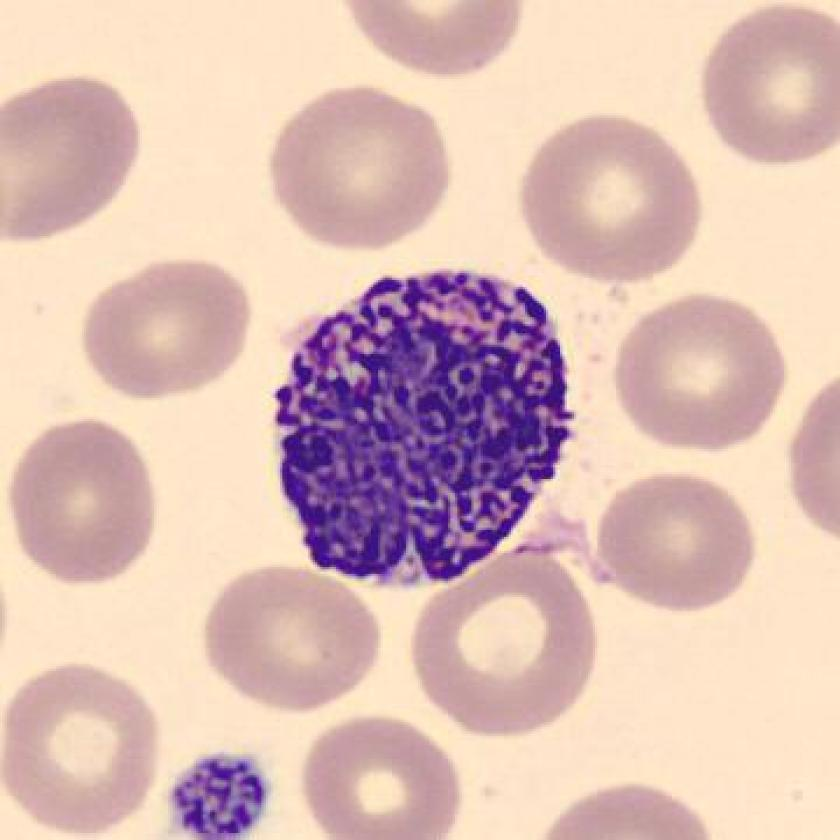basophil: (274, 253, 589, 591)
